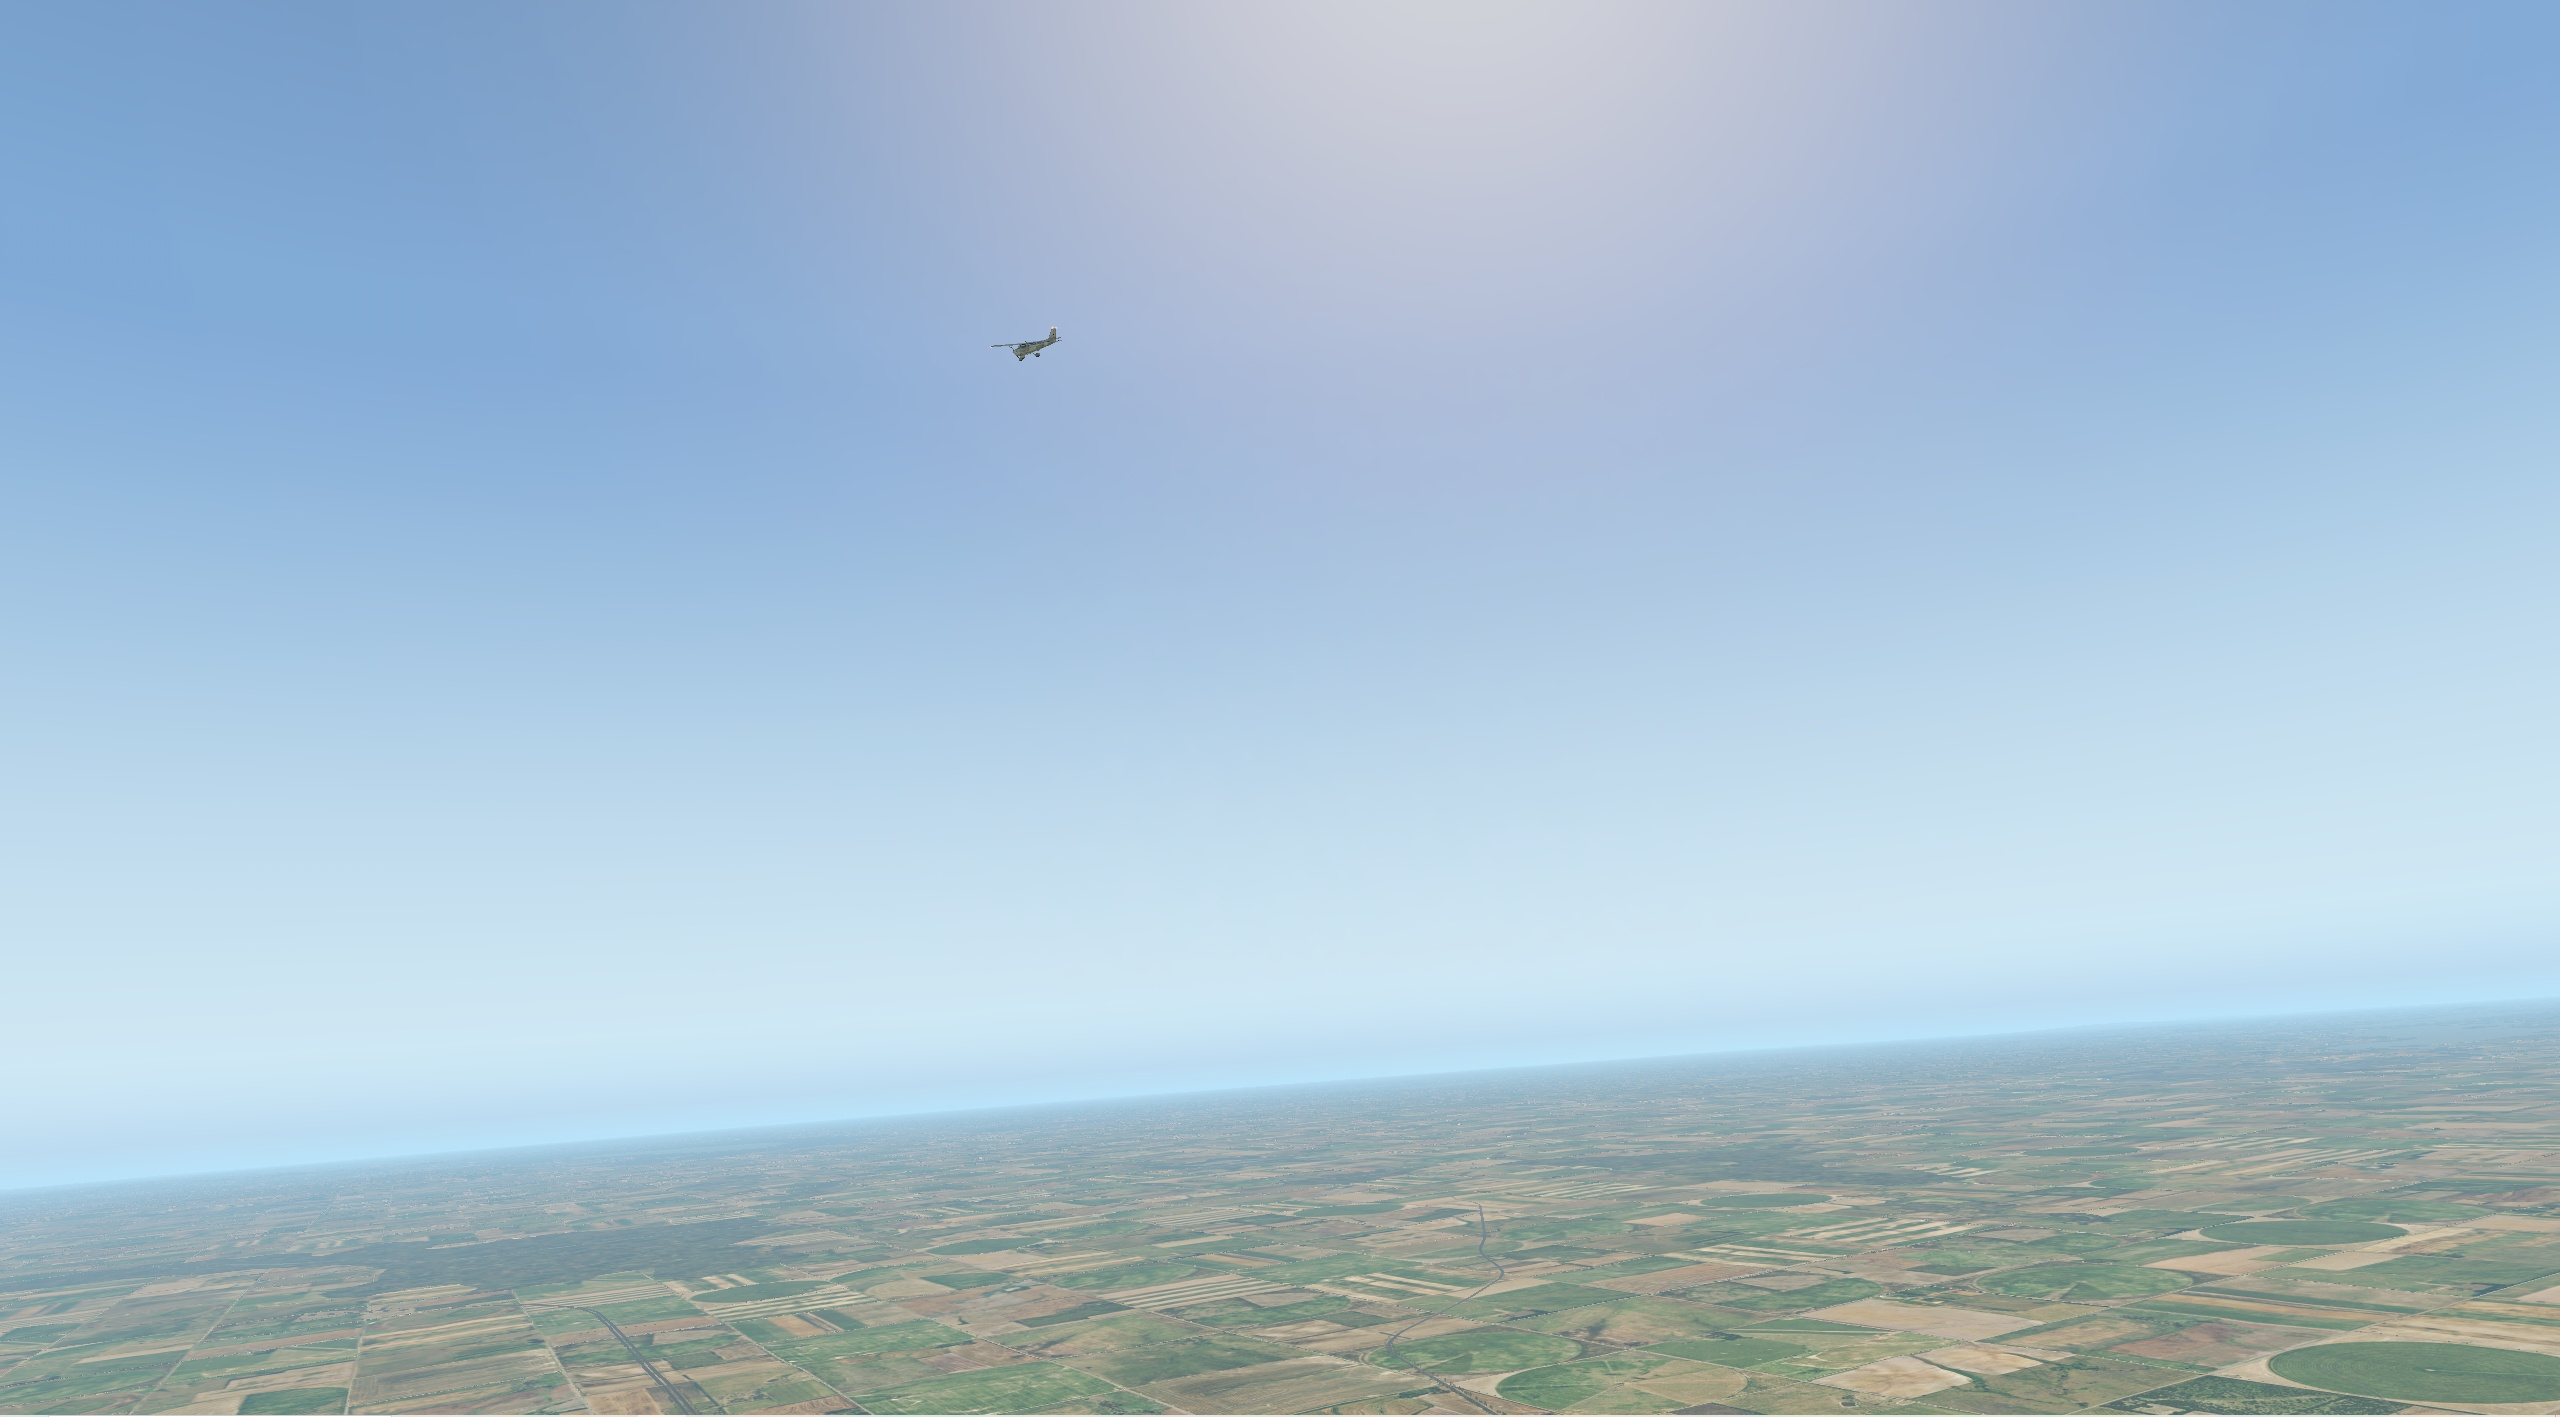aircraft: (974, 328, 1078, 368)
